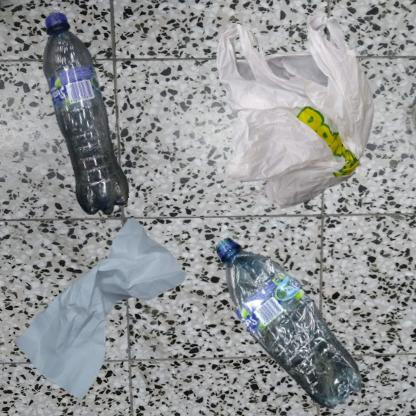bolsa: (213, 10, 383, 216)
botella: (10, 10, 172, 239), (213, 213, 386, 416)
papel: (10, 213, 188, 412)
